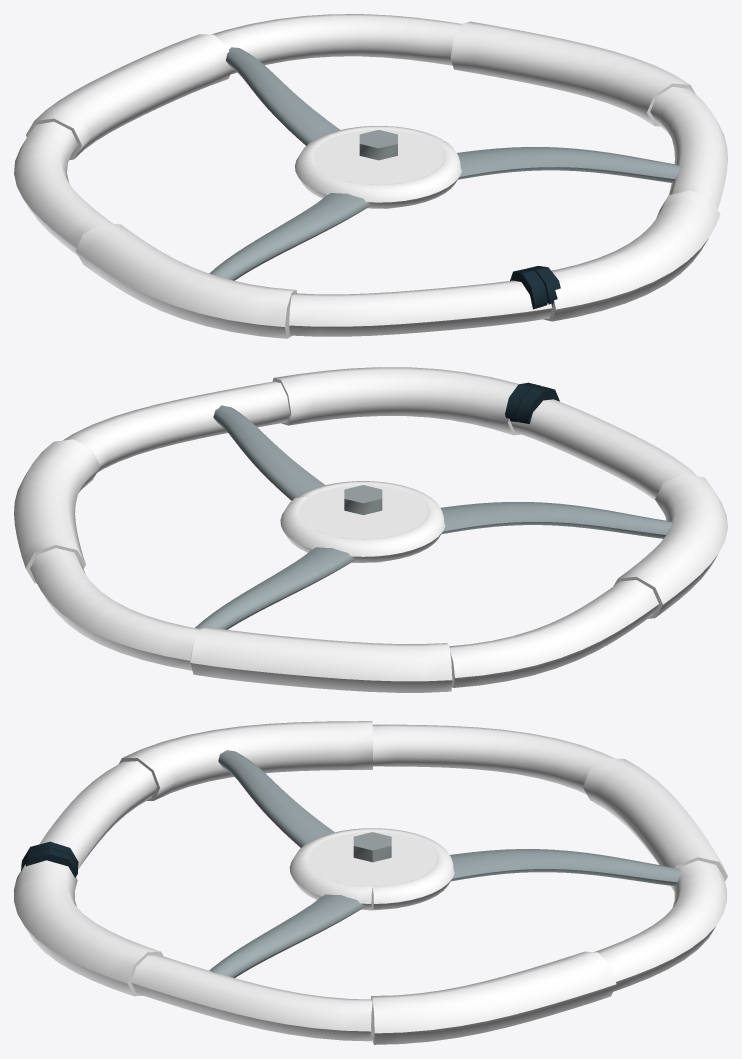
Rendered from Wheel_03_N_水線・藍白.glb.
3 renders of one model, top to bottom at view 1: azimuth 30°, elevation 25°; view 2: azimuth 150°, elevation 25°; view 3: azimuth 270°, elevation 25°, orthographic.
Parts seen in each view (by area): view 1: Wheel_03_N; view 2: Wheel_03_N; view 3: Wheel_03_N.
Boxes of the visible parts, <box> form: Wheel_03_N: <box>14,14,727,338</box>; Wheel_03_N: <box>14,367,727,692</box>; Wheel_03_N: <box>14,721,727,1044</box>.
Size of the model in its own units: 0.326 by 0.0299 by 0.327.
Materials: 4 (4 with a texture image).
